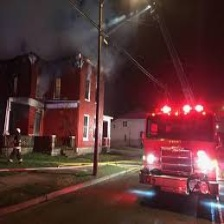smoke: (1, 1, 130, 96)
